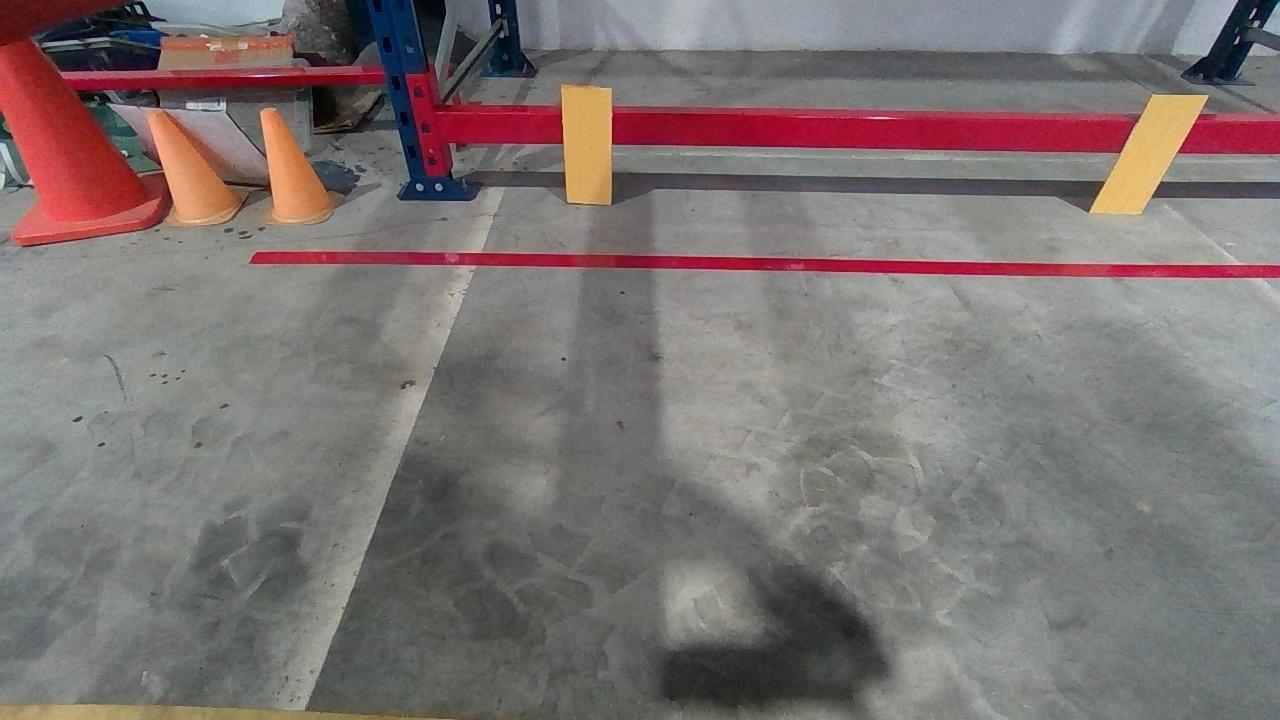h_rack: (434, 109, 1275, 155)
orange_strip: (1087, 93, 1209, 214), (559, 84, 613, 203)
red_line: (246, 247, 1278, 278)
